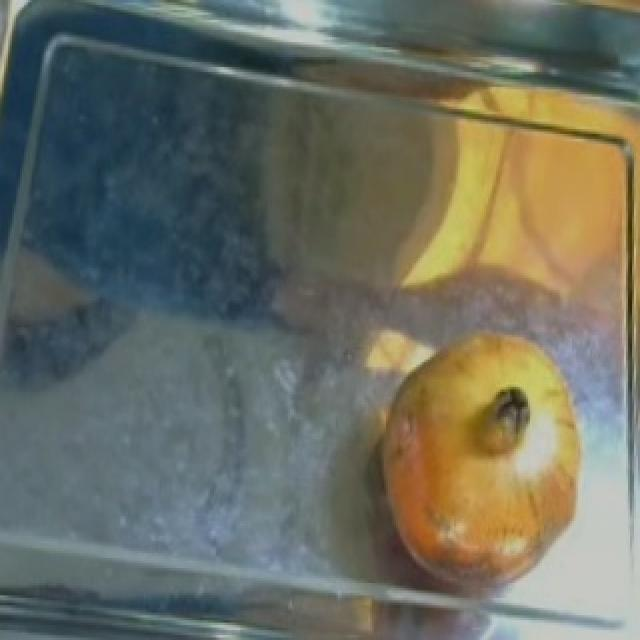fruit: (362, 310, 600, 595)
